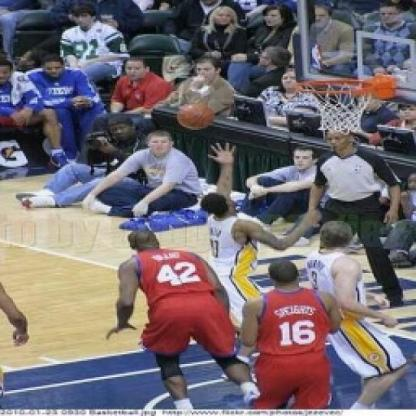basketball: (179, 101, 214, 130)
